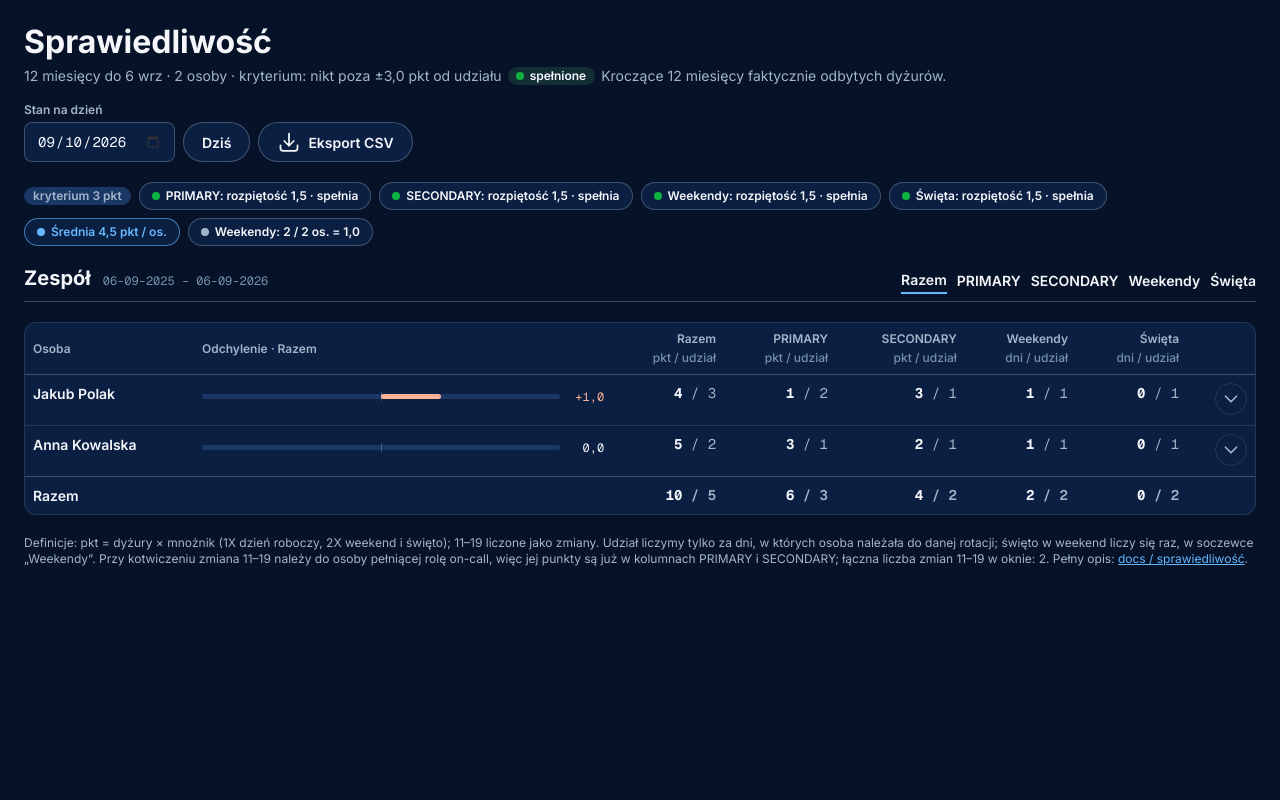
Scenario: FairnessPanel lens links › sorts by the chosen lens and moves the bar to it
The image size is (1280, 800).
Expected: the column heading "Jakub Polak" is shown, [25,375,194,426]
Expected: the picture named "1 ponad udział" is shown, [202,388,604,404]
What coordinates should you click on to do the following:
click the button "PRIMARY"
I would click on:
 (989, 282)
Its box is [957,270,1021,294].
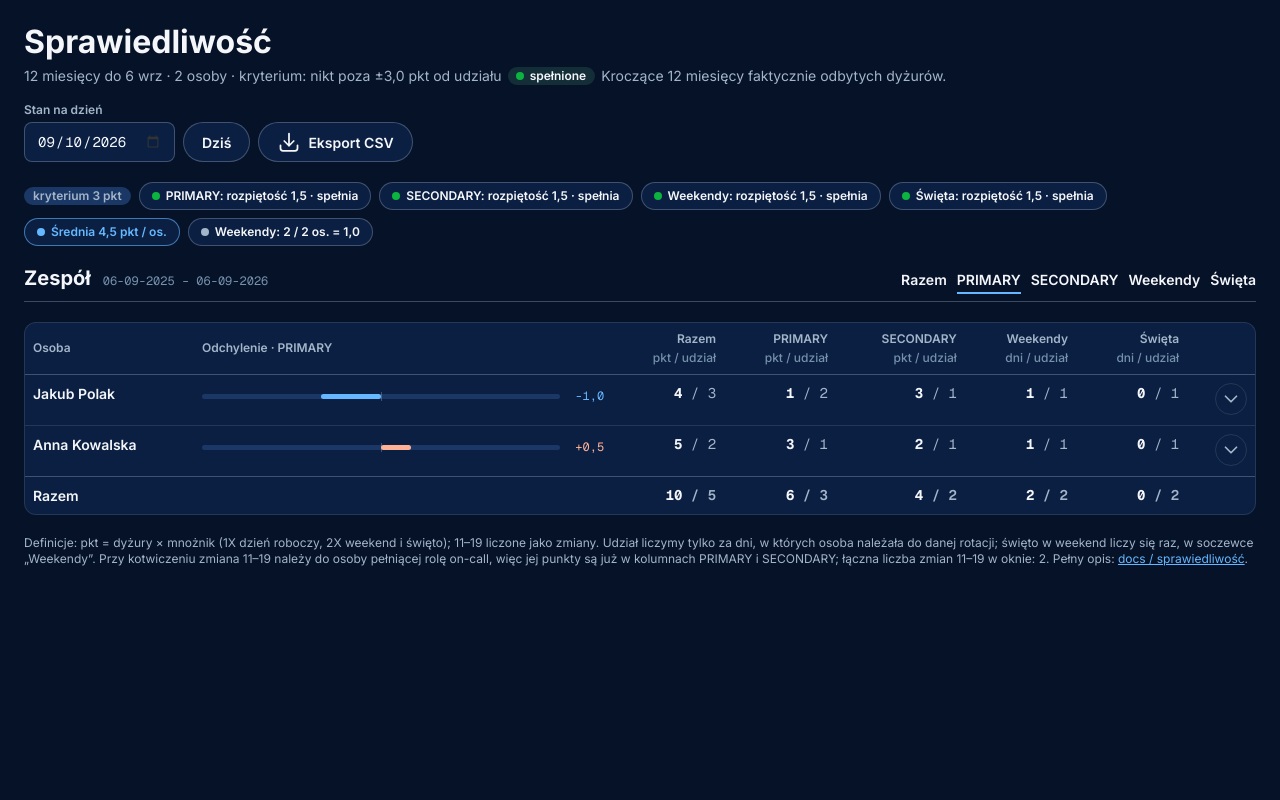
Expected: the column heading "Odchylenie · PRIMARY" is shown, [194,322,612,374]
Expected: the picture named "1 poniżej udziału" is shown, [202,388,604,404]
Expected: the picture named "0,5 ponad udział" is shown, [202,439,604,455]
